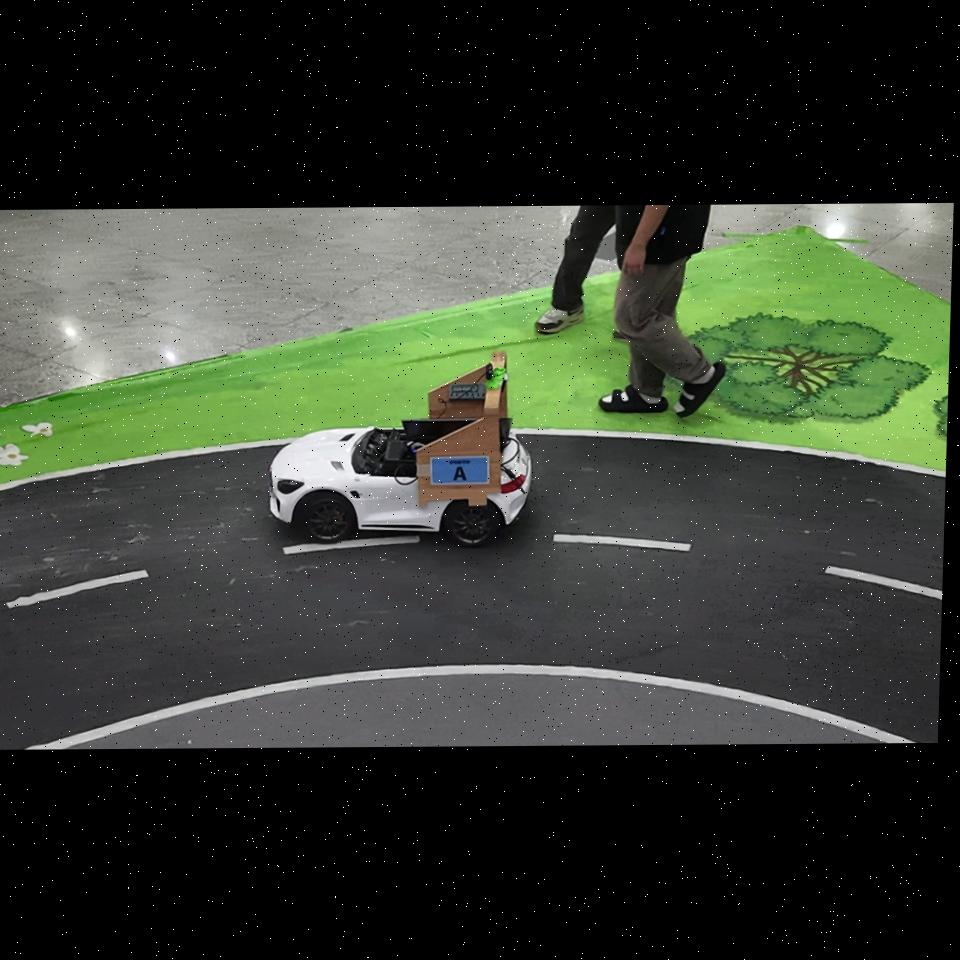broken_line: (6, 569, 149, 609), (824, 565, 942, 600), (282, 535, 420, 555), (553, 534, 692, 551)
